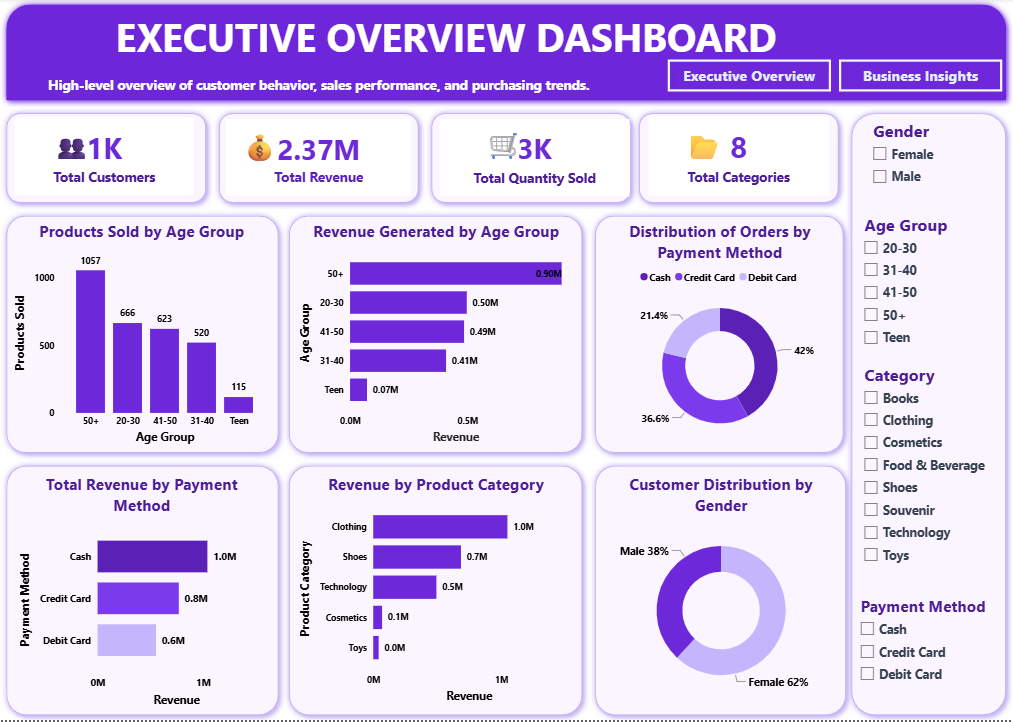

The dashboard page shown, as its layout file describes it:
{"tool":"powerbi","page":{"name":"Executive Overview","canvas":[1400,1000],"ordinal":5},"visuals":[{"type":"shape","box":[0,150.3,293.7,141.7],"z":0},{"type":"shape","box":[0,292,393.9,345.5],"z":1000},{"type":"shape","box":[0,637.5,393.9,362.8],"z":2000},{"type":"shape","box":[390.5,637.5,423.3,362.8],"z":3000},{"type":"shape","box":[813.8,637.5,364.5,362.8],"z":4000},{"type":"shape","box":[390.5,292,423.3,345.5],"z":5000},{"type":"shape","box":[813.8,292,361.1,345.5],"z":6000},{"type":"shape","box":[293.7,150.3,293.7,141.7],"z":7000},{"type":"shape","box":[587.4,150.3,293.7,141.7],"z":8000},{"type":"shape","box":[874.2,150.3,293.7,141.7],"z":9000},{"type":"cardVisual","fields":{"Data":["Customer Data Analysis Dataset.Total Quantity Sold"]},"box":[603,162.4,273,117.5],"z":10000},{"type":"cardVisual","fields":{"Data":["Customer Data Analysis Dataset.Total Customers"]},"box":[15.5,160.7,257.4,117.5],"z":11000},{"type":"shape","box":[1167.9,150.3,231.5,850],"z":12000},{"type":"cardVisual","fields":{"Data":["Customer Data Analysis Dataset.Total Revenue"]},"box":[307.5,162.4,266.1,117.5],"z":13000},{"type":"cardVisual","fields":{"Data":["Count(Customer Data Analysis Dataset.category)"]},"box":[891.5,159,259.2,119.2],"z":14000},{"type":"slicer","fields":{"Values":["Customer Data Analysis Dataset.category"]},"box":[1181.8,499.3,198.7,304.1],"z":15000},{"type":"slicer","fields":{"Values":["Customer Data Analysis Dataset.gender"]},"box":[1193.9,162.4,184.9,120.9],"z":16000},{"type":"slicer","fields":{"Values":["Customer Data Analysis Dataset.Age_Group"]},"box":[1181.8,292,195.2,207.3],"z":17000},{"type":"slicer","fields":{"Values":["Customer Data Analysis Dataset.payment_method"]},"box":[1176.6,820.7,222.9,159],"z":18000},{"type":"donutChart","title":"Customer Distribution by Gender","fields":{"Category":["Customer Data Analysis Dataset.gender"],"Y":["CountNonNull(Customer Data Analysis Dataset.customer_id)"]},"box":[836.2,656.5,321.4,323.1],"z":19000},{"type":"clusteredBarChart","title":"Revenue Generated by Age Group","fields":{"Category":["Customer Data Analysis Dataset.Age_Group"],"Y":["Sum(Customer Data Analysis Dataset.Revenue)"]},"box":[409.5,307.5,387,314.4],"z":20000},{"type":"clusteredColumnChart","title":"Products Sold by Age Group","fields":{"Category":["Customer Data Analysis Dataset.Age_Group"],"Y":["Sum(Customer Data Analysis Dataset.quantity)"]},"box":[15.5,307.5,361.1,314.4],"z":21000},{"type":"clusteredBarChart","title":" Revenue by Product Category","fields":{"Category":["Customer Data Analysis Dataset.category"],"Y":["Sum(Customer Data Analysis Dataset.Revenue)"]},"box":[409.5,656.5,387,323.1],"z":22000},{"type":"clusteredBarChart","title":"Total Revenue by Payment Method","fields":{"Category":["Customer Data Analysis Dataset.payment_method"],"Y":["Sum(Customer Data Analysis Dataset.Revenue)"]},"box":[22.5,656.5,347.3,328.3],"z":23000},{"type":"donutChart","title":"Distribution of Orders by Payment Method","fields":{"Category":["Customer Data Analysis Dataset.payment_method"],"Y":["CountNonNull(Customer Data Analysis Dataset.customer_id)"]},"box":[834.5,307.5,321.4,314.4],"z":24000},{"type":"textbox","box":[69.1,172.8,57,60.5],"z":25000},{"type":"textbox","box":[328.3,174.5,65.7,62.2],"z":26000},{"type":"textbox","box":[941.6,172.8,55.3,62.2],"z":27000},{"type":"textbox","box":[665.2,172.8,69.1,63.9],"z":28000},{"type":"shape","box":[0,0,1399.5,150.3],"z":29000},{"type":"textbox","box":[126.1,12.1,993.4,89.8],"z":30000},{"type":"textbox","box":[50.1,101.9,780.9,36.3],"z":31000},{"type":"actionButton","box":[914,76,243.6,62.2],"z":32000},{"type":"actionButton","box":[1150.7,76,243.6,62.2],"z":33000}]}

Visuals, with their boxes in screenshot pixels (x1, y1, x2, y2), scaled from the page's 1400x1000 canvas onto the 1013x722 screenshot:
shape: box(0, 109, 213, 211)
shape: box(0, 211, 285, 460)
shape: box(0, 460, 285, 721)
shape: box(283, 460, 589, 721)
shape: box(589, 460, 853, 721)
shape: box(283, 211, 589, 460)
shape: box(589, 211, 850, 460)
shape: box(213, 109, 425, 211)
shape: box(425, 109, 638, 211)
shape: box(633, 109, 845, 211)
cardVisual - Customer Data Analysis Dataset.Total Quantity Sold: box(436, 117, 634, 202)
cardVisual - Customer Data Analysis Dataset.Total Customers: box(11, 116, 197, 201)
shape: box(845, 109, 1012, 721)
cardVisual - Customer Data Analysis Dataset.Total Revenue: box(222, 117, 415, 202)
cardVisual - Count(Customer Data Analysis Dataset.category): box(645, 115, 833, 201)
slicer - Customer Data Analysis Dataset.category: box(855, 360, 999, 580)
slicer - Customer Data Analysis Dataset.gender: box(864, 117, 998, 205)
slicer - Customer Data Analysis Dataset.Age_Group: box(855, 211, 996, 360)
slicer - Customer Data Analysis Dataset.payment_method: box(851, 593, 1012, 707)
"Customer Distribution by Gender" donutChart: box(605, 474, 838, 707)
"Revenue Generated by Age Group" clusteredBarChart: box(296, 222, 576, 449)
"Products Sold by Age Group" clusteredColumnChart: box(11, 222, 272, 449)
" Revenue by Product Category" clusteredBarChart: box(296, 474, 576, 707)
"Total Revenue by Payment Method" clusteredBarChart: box(16, 474, 268, 711)
"Distribution of Orders by Payment Method" donutChart: box(604, 222, 836, 449)
textbox: box(50, 125, 91, 168)
textbox: box(238, 126, 285, 171)
textbox: box(681, 125, 721, 170)
textbox: box(481, 125, 531, 171)
shape: box(0, 0, 1012, 109)
textbox: box(91, 9, 810, 74)
textbox: box(36, 74, 601, 100)
actionButton: box(661, 55, 838, 100)
actionButton: box(833, 55, 1009, 100)
